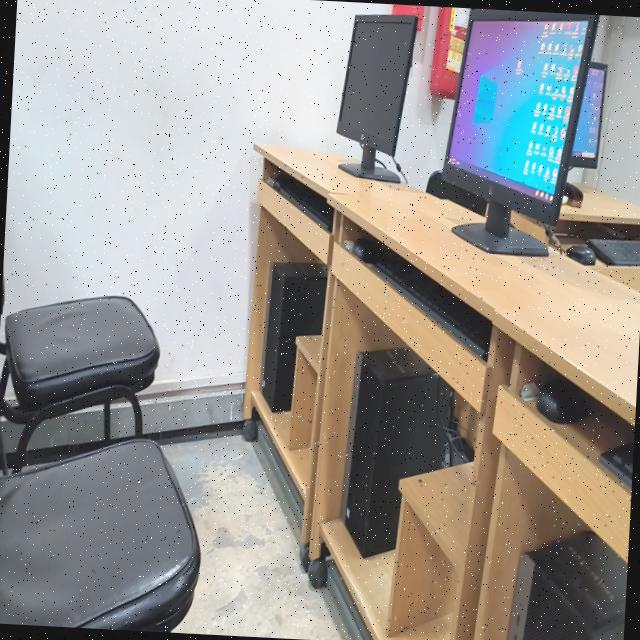Chair: (0, 438, 200, 633), (0, 295, 159, 469), (425, 170, 485, 215)
Cpu: (340, 348, 454, 556), (506, 530, 628, 640), (261, 262, 326, 411)
Fire Extinguisher: (429, 6, 470, 98)
Keyboard: (344, 237, 491, 360), (265, 171, 333, 231), (598, 439, 634, 488), (586, 238, 640, 265)
Monitor: (442, 9, 597, 254), (336, 14, 417, 181), (568, 61, 607, 168)
Mouse: (535, 374, 590, 423), (565, 244, 595, 264)
